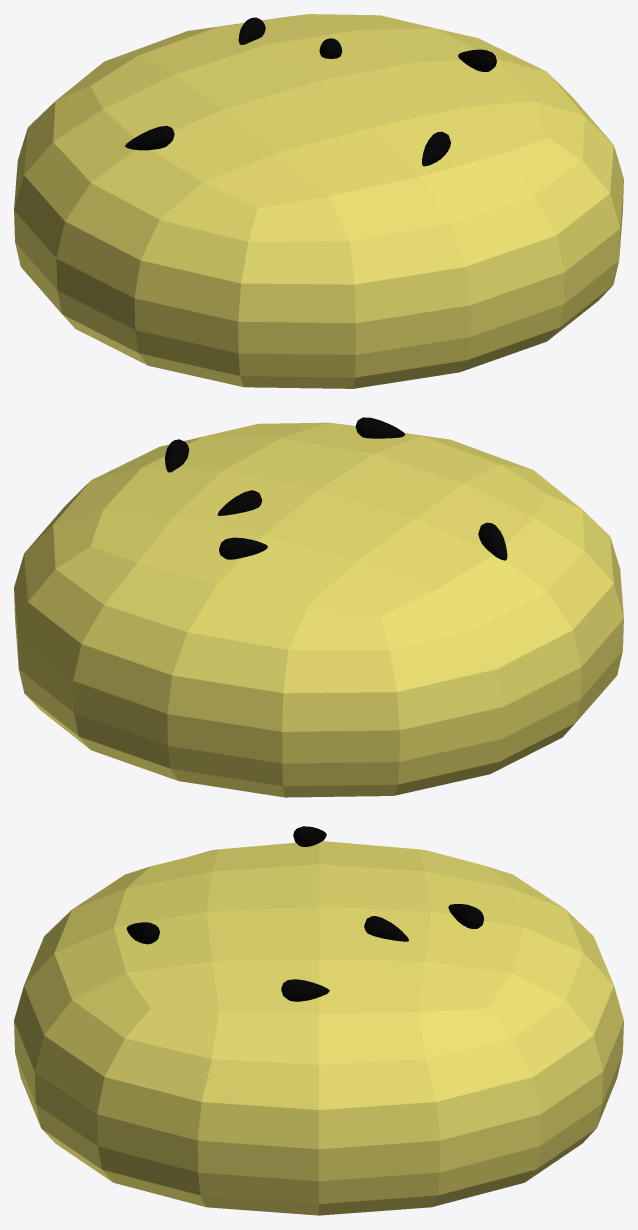
The model's file is TopBun.fbx.
The picture shows the model from 3 angles, top to bottom: view 1: azimuth 30°, elevation 25°; view 2: azimuth 150°, elevation 25°; view 3: azimuth 270°, elevation 25°; orthographic projection.
Parts seen in each view (by area): view 1: Cube, Cube.001; view 2: Cube, Cube.001; view 3: Cube, Cube.001.
Part boxes in pixels (x1,y1,x2,y2): Cube: [14, 14, 623, 388]; Cube.001: [125, 17, 496, 166]; Cube: [14, 422, 623, 797]; Cube.001: [165, 417, 507, 560]; Cube: [14, 841, 623, 1215]; Cube.001: [126, 826, 483, 1001].
Size of the model in its own units: 181 by 73.2 by 181.
